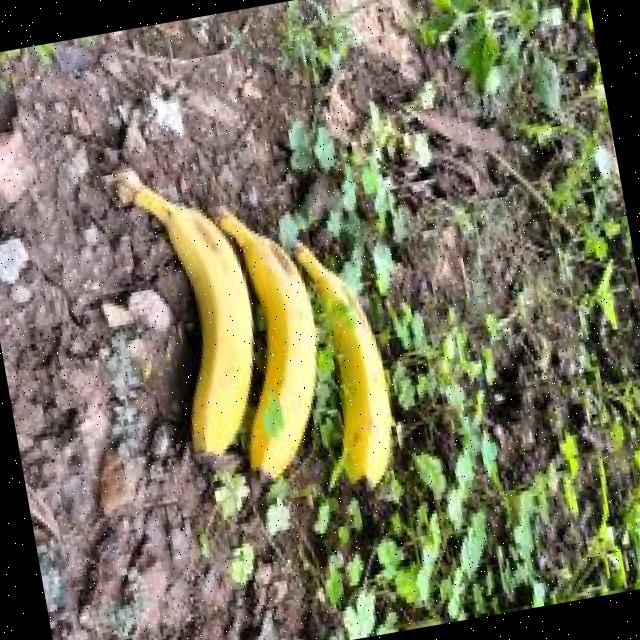banana: (132, 188, 252, 454), (218, 212, 315, 478), (294, 245, 391, 487)
